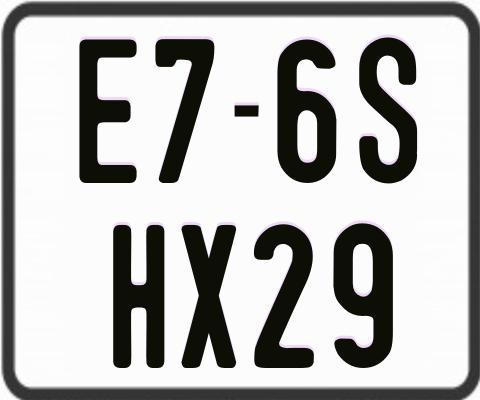2: (253, 221, 319, 367)
6: (276, 37, 341, 187)
7: (154, 39, 216, 184)
9: (331, 223, 397, 370)
E: (78, 39, 140, 183)
H: (110, 223, 166, 370)
S: (356, 35, 415, 187)
X: (182, 225, 240, 369)
